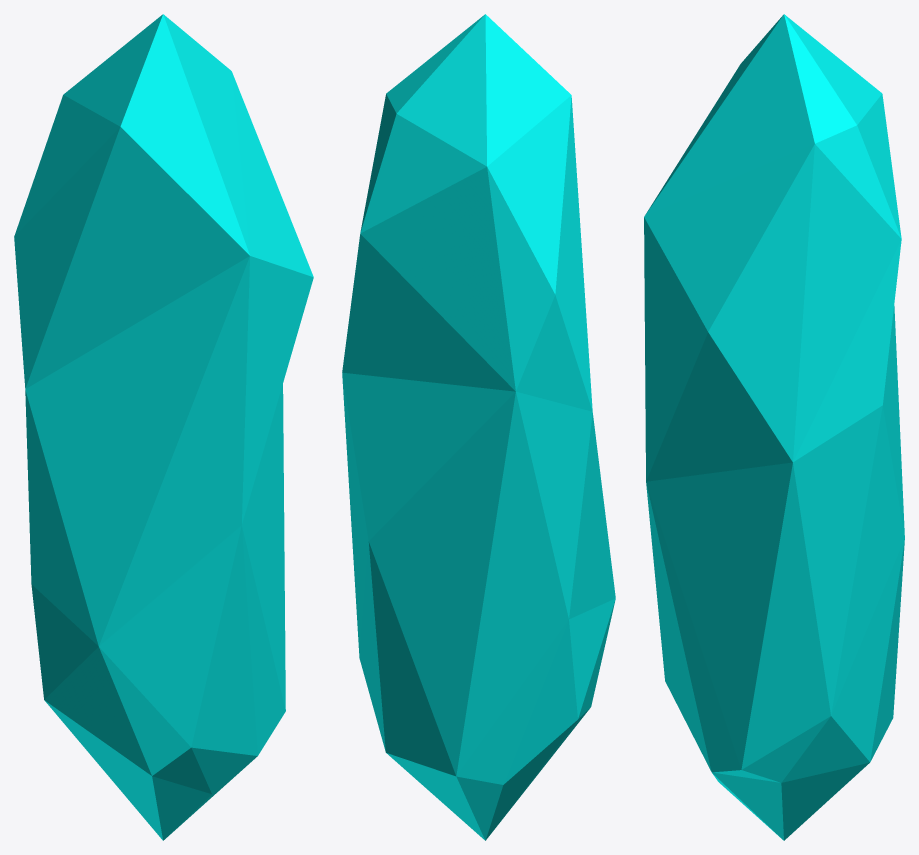
The model's file is Crystal_5.fbx.
The picture shows the model from 3 angles, left to right: view 1: azimuth 30°, elevation 25°; view 2: azimuth 150°, elevation 25°; view 3: azimuth 270°, elevation 25°; orthographic projection.
Visible parts, largest first — view 1: Crystal_1; view 2: Crystal_1; view 3: Crystal_1.
Boxes of the visible parts, left/top/right/bottom form: Crystal_1: left=14, top=14, right=313, bottom=840; Crystal_1: left=342, top=14, right=615, bottom=840; Crystal_1: left=644, top=14, right=904, bottom=840.
Bounding box in the file's own units: 35.78 × 115 × 32.77.
